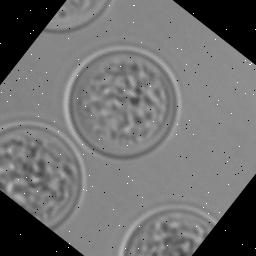picoshell: (61, 44, 180, 159), (0, 121, 85, 230), (116, 204, 215, 256), (42, 0, 111, 33)
